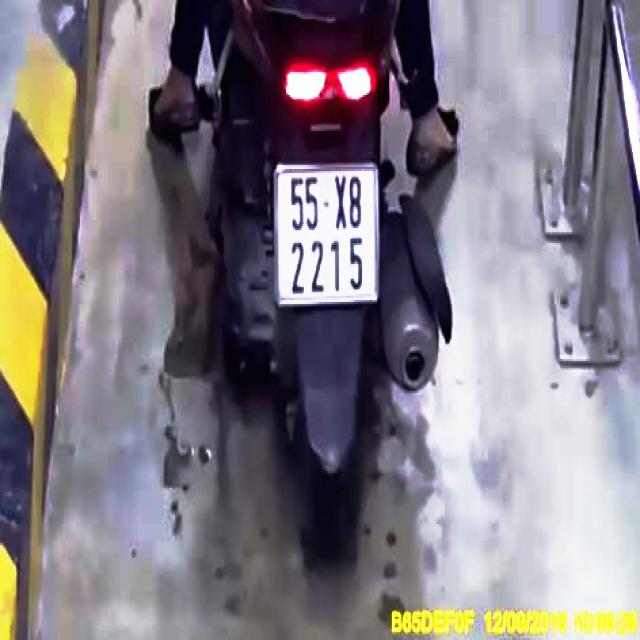license_plate: (277, 159, 380, 305)
